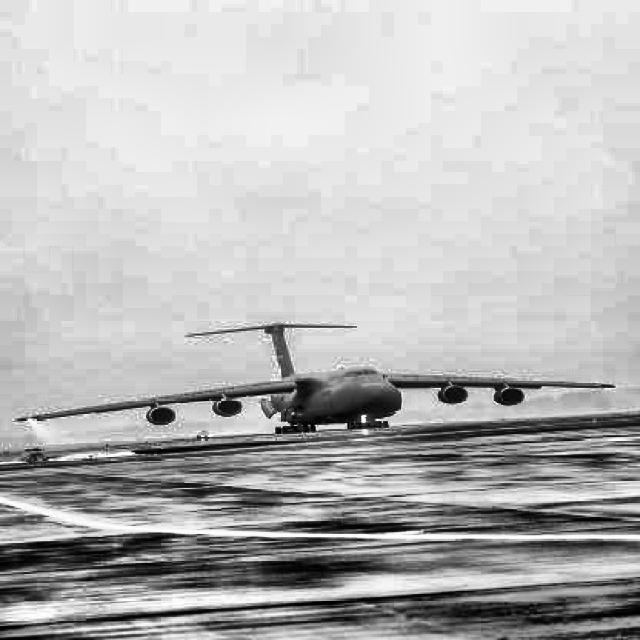C5: (9, 322, 617, 435)
